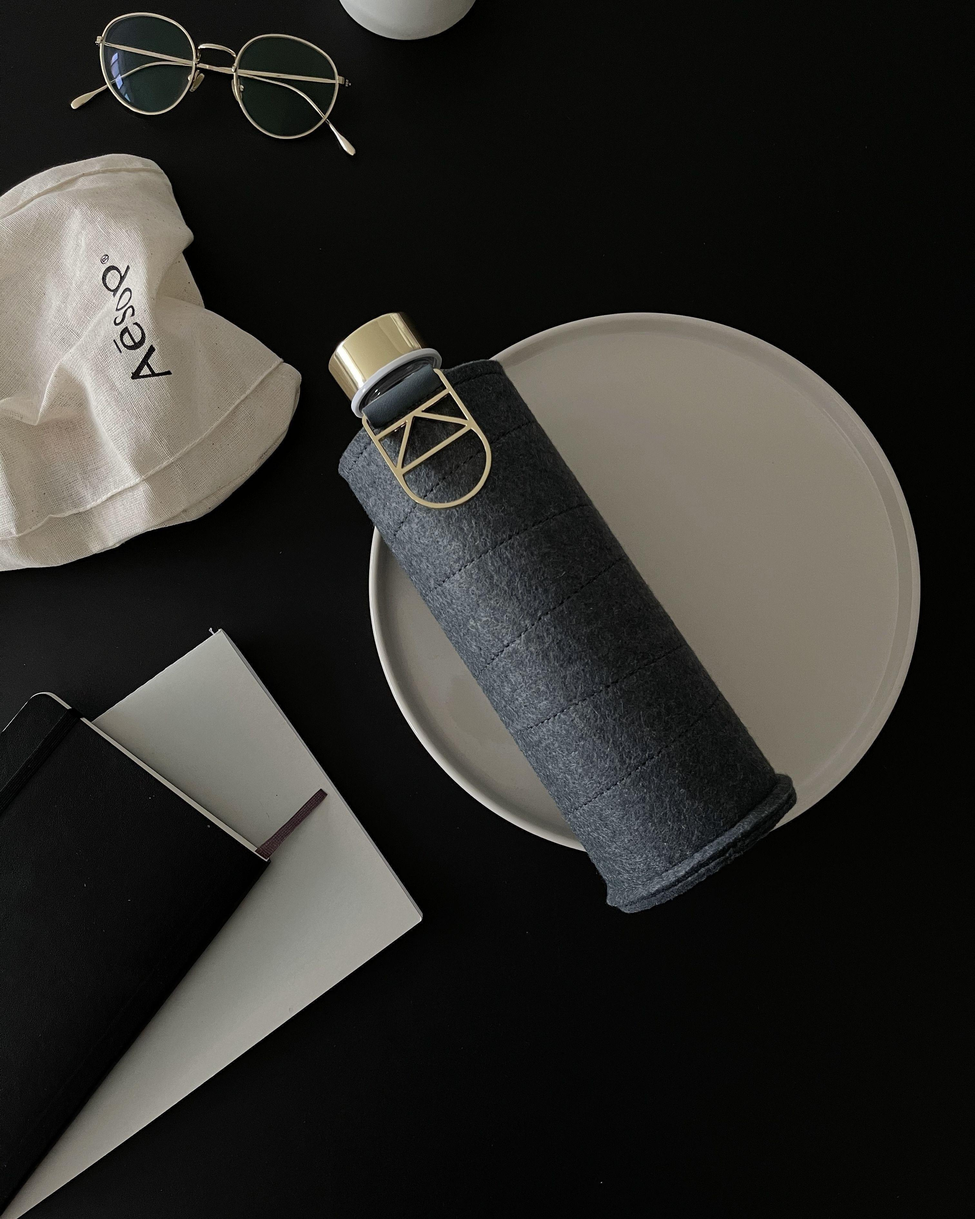gym bottle: (328, 313, 794, 911)
